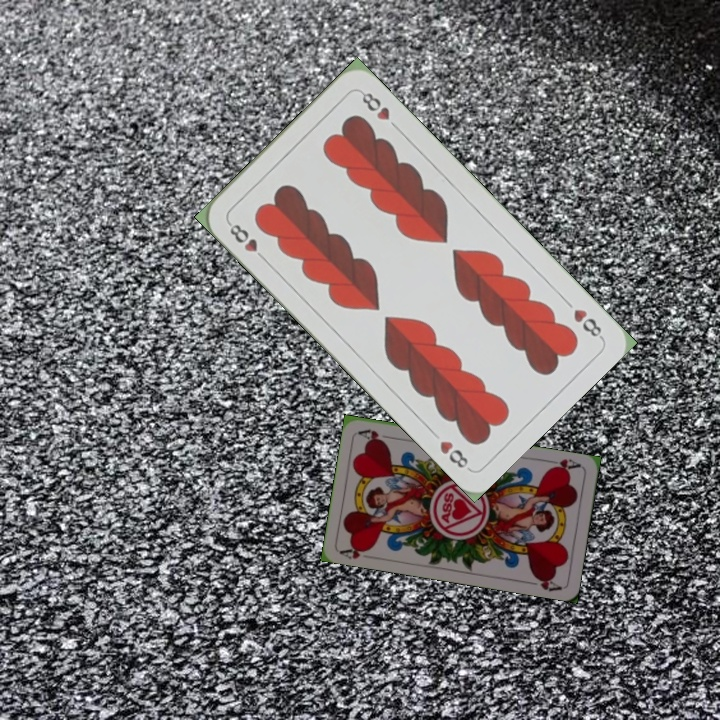H8: (224, 218, 270, 264), (569, 304, 606, 341)
HA: (543, 455, 583, 475), (337, 541, 373, 562)
